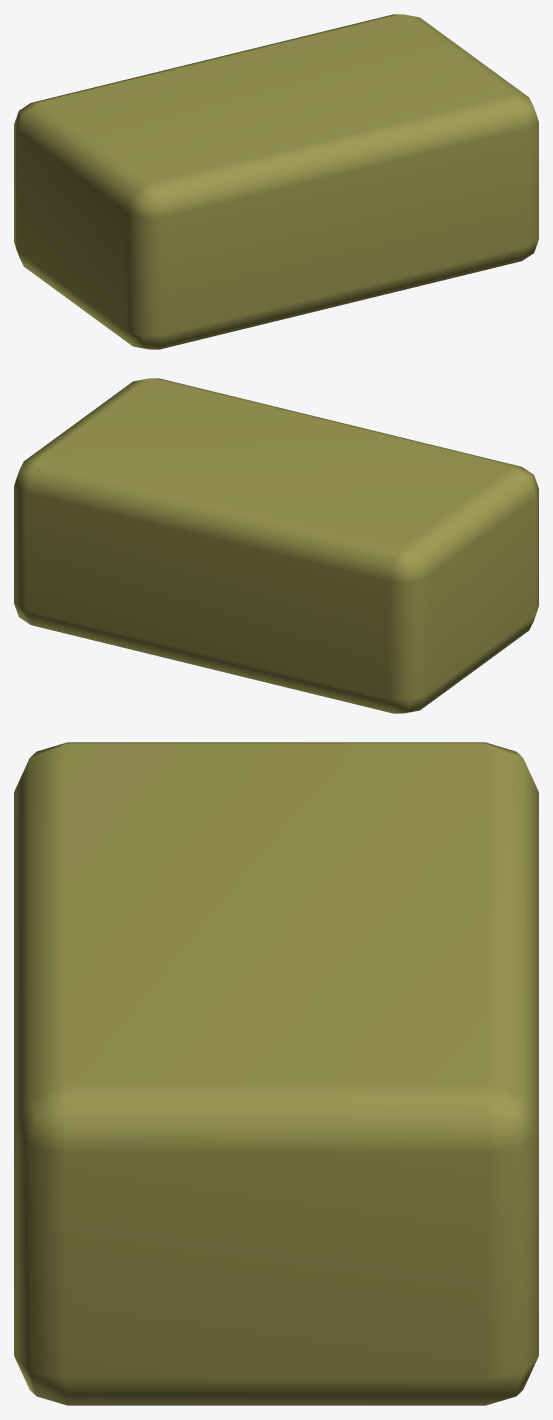
The model's file is SM_CheeseBlock.fbx.
3 views of the same model, one above another, from view 1: azimuth 30°, elevation 25°; view 2: azimuth 150°, elevation 25°; view 3: azimuth 270°, elevation 25° (orthographic). The views are drawn at different scales.
Parts seen in each view (by area): view 1: CheeseBlock; view 2: CheeseBlock; view 3: CheeseBlock.
Part boxes in pixels (x1=…): CheeseBlock: x1=14, y1=14, x2=538, y2=349; CheeseBlock: x1=14, y1=378, x2=538, y2=713; CheeseBlock: x1=14, y1=742, x2=538, y2=1405.
Bounding box in the file's own units: 20.28 × 7.9 × 11.72.
